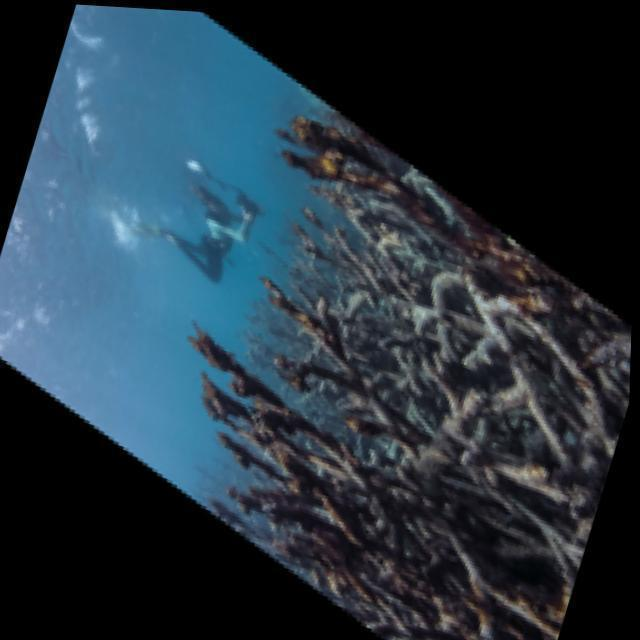Dead Coral: (124, 298, 566, 640), (206, 100, 581, 333), (217, 244, 472, 411)
